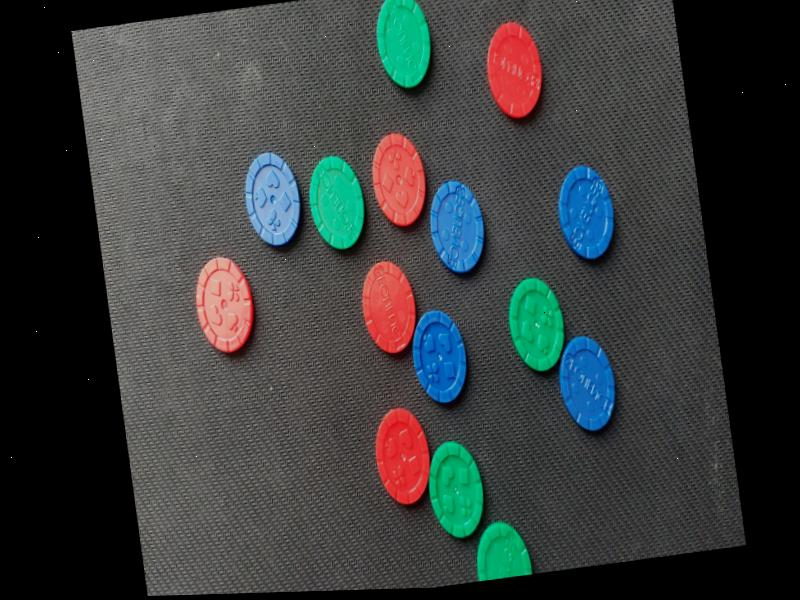Blue_Token: (229, 132, 320, 267), (552, 148, 625, 279), (554, 332, 624, 444), (419, 188, 495, 291), (403, 297, 469, 409)
Green_Token: (421, 428, 502, 548), (299, 148, 374, 272), (500, 266, 575, 382), (371, 0, 449, 98), (459, 504, 545, 583)
Red_Token: (341, 242, 432, 361), (367, 397, 452, 519), (184, 229, 261, 355), (479, 12, 559, 129), (362, 121, 434, 227)
